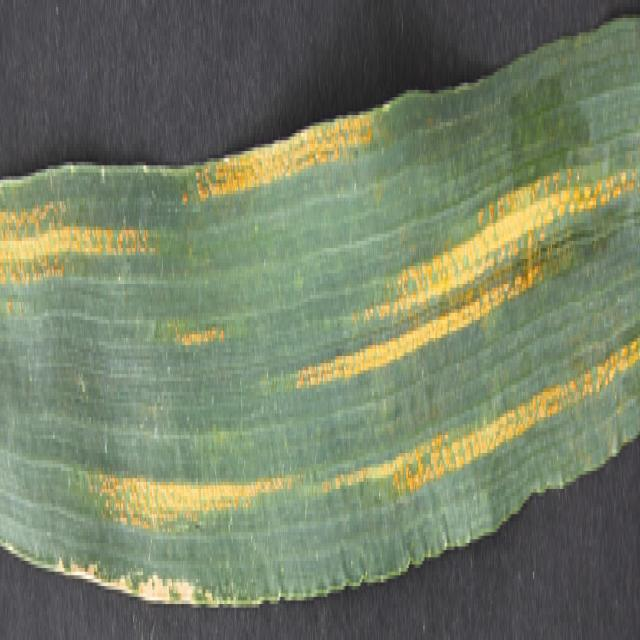leaf rust: (0, 100, 640, 521)
